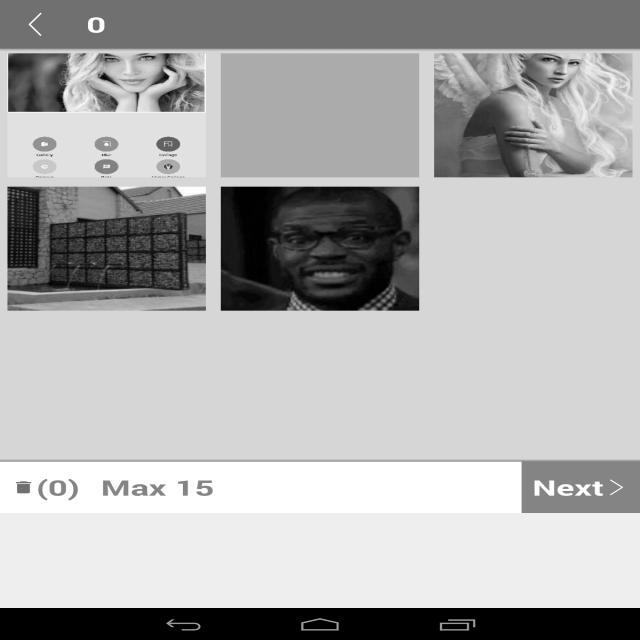ImageButton: (255, 358, 384, 438), (255, 487, 384, 567), (46, 358, 174, 438), (466, 358, 594, 438), (46, 487, 174, 567), (466, 487, 594, 567)
ImageView: (0, 42, 640, 342), (7, 54, 206, 178), (434, 54, 633, 178), (221, 54, 419, 178), (7, 187, 206, 310), (221, 187, 419, 310), (0, 0, 70, 48), (589, 5, 631, 38)
TextView: (90, 462, 225, 513), (521, 461, 640, 513), (0, 462, 90, 513), (71, 0, 122, 49), (487, 5, 538, 38), (436, 5, 486, 38), (538, 5, 588, 38), (494, 447, 566, 464), (606, 458, 640, 492), (290, 576, 349, 593), (294, 447, 344, 464), (514, 576, 545, 593), (96, 576, 124, 593), (98, 447, 122, 464)
